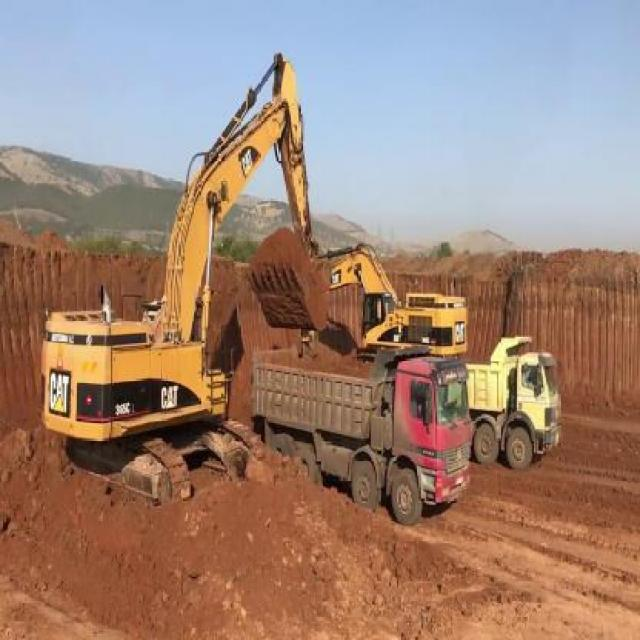Dump Truck: (255, 336, 473, 530), (469, 331, 562, 472)
Excavator: (27, 51, 316, 498), (322, 230, 468, 361)
